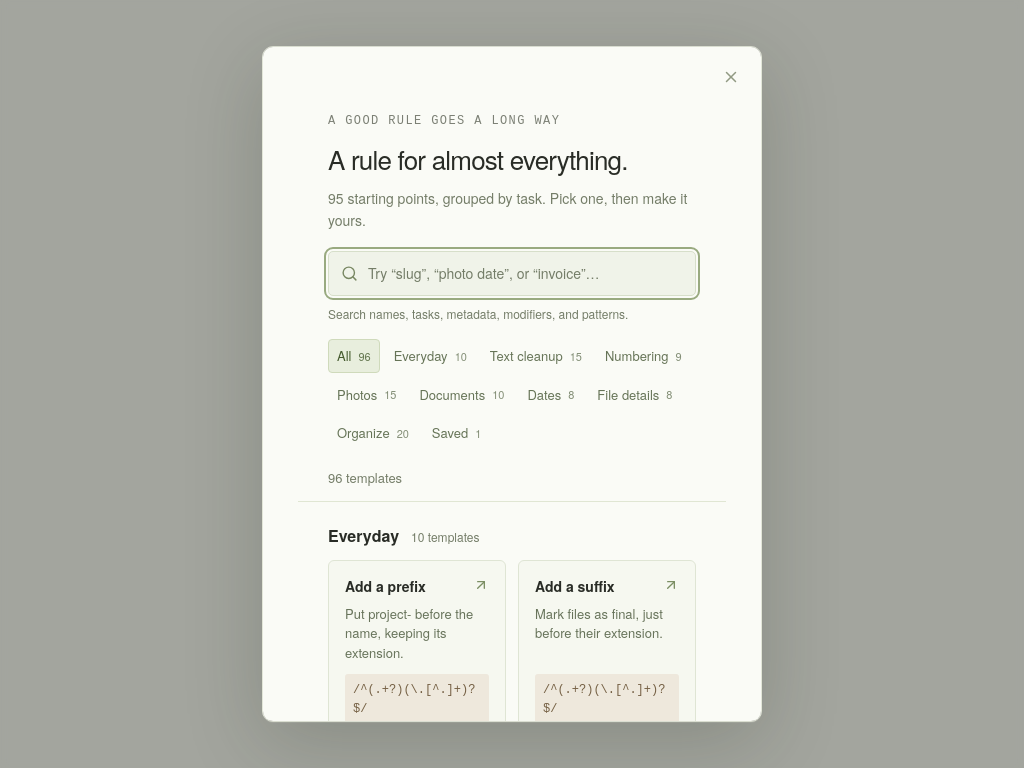
Test: template library › combines categories with modifier search and clears the search without changing the category
Click the button "Photos 15": (367, 395) 328,378 -> 406,412
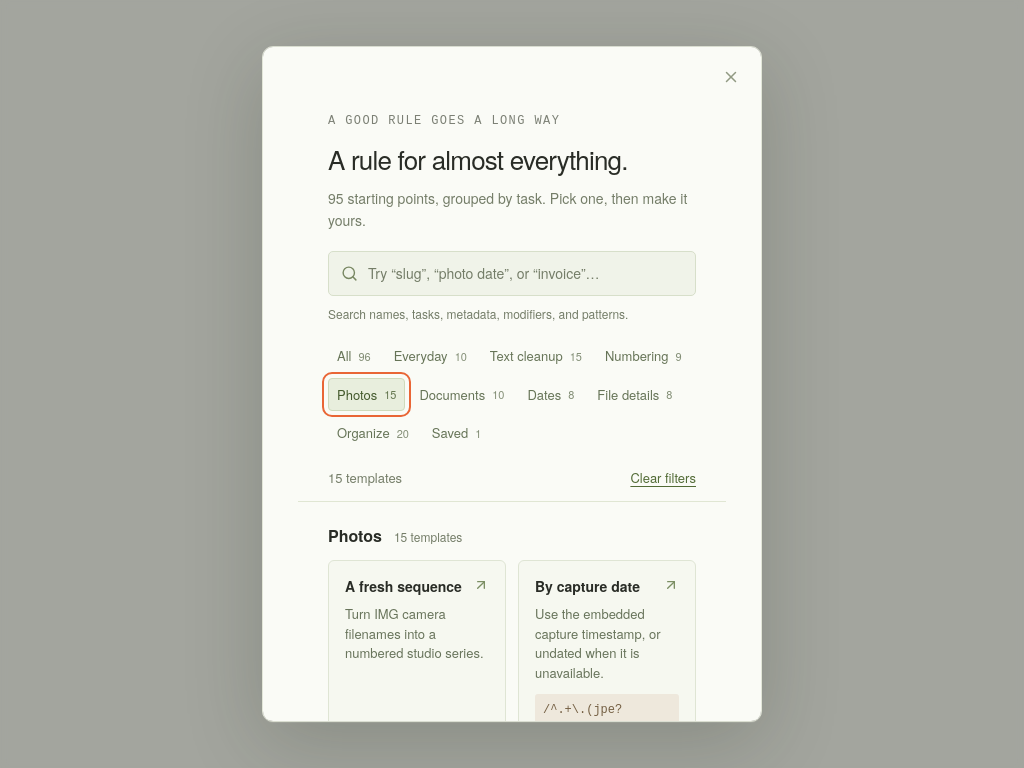
Click the field named "Search templates": (526, 274) 368,263 -> 683,284
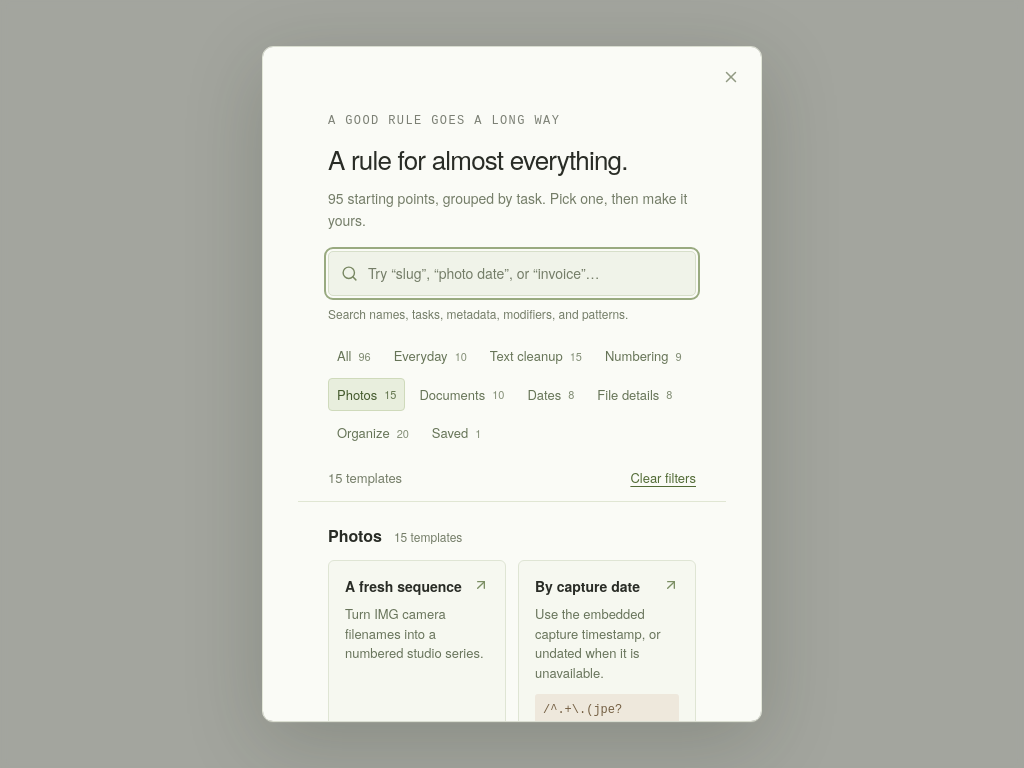
Type keys "pad with zeros"
(page scrolled)
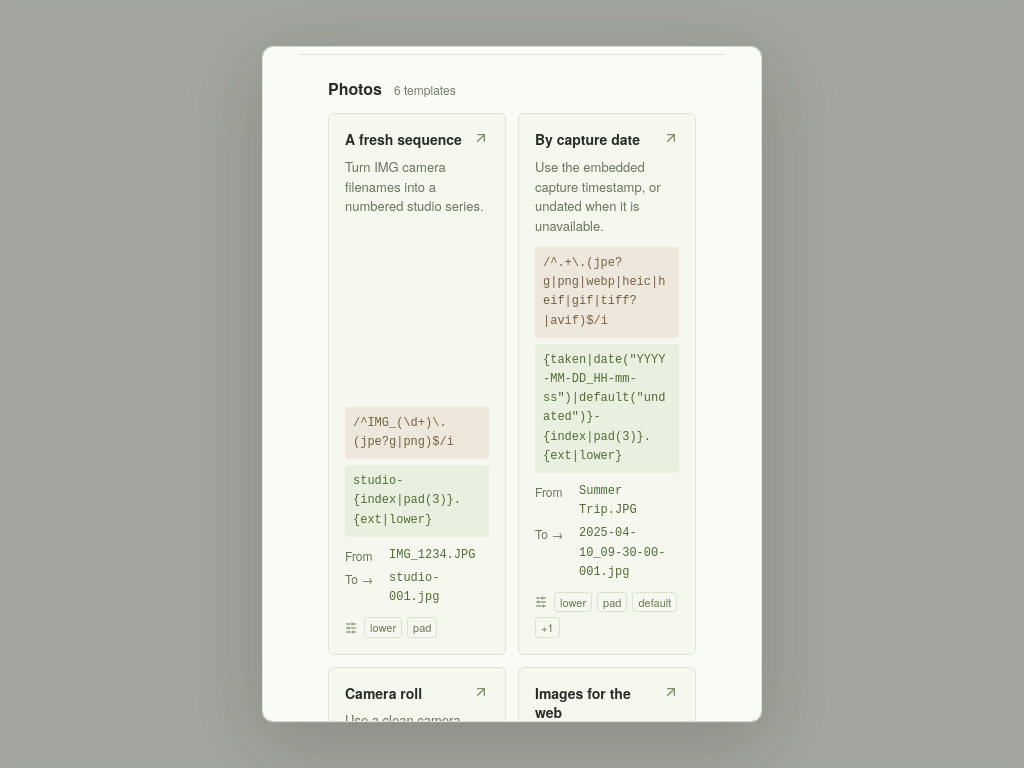
Now the button "Documents" is gone
Now the button "Saved" is gone
Click the button "A fresh sequence": (417, 384) 328,114 -> 506,655
(page scrolled)
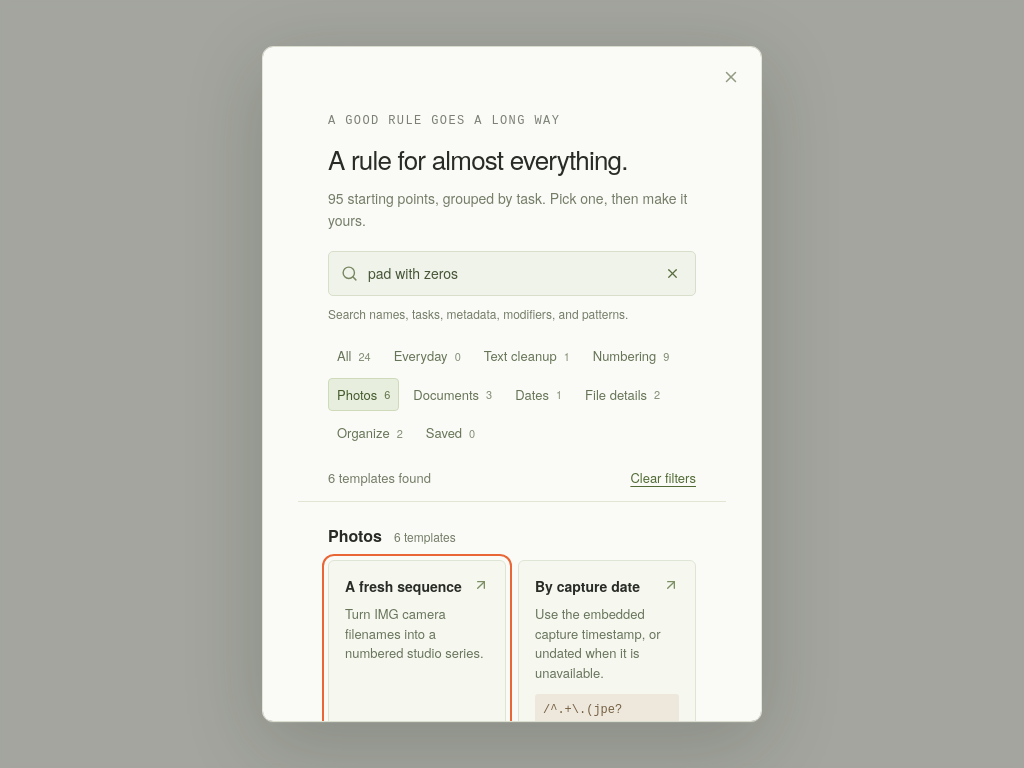
Click the button named "Clear template search": (672, 274) 662,263 -> 683,284
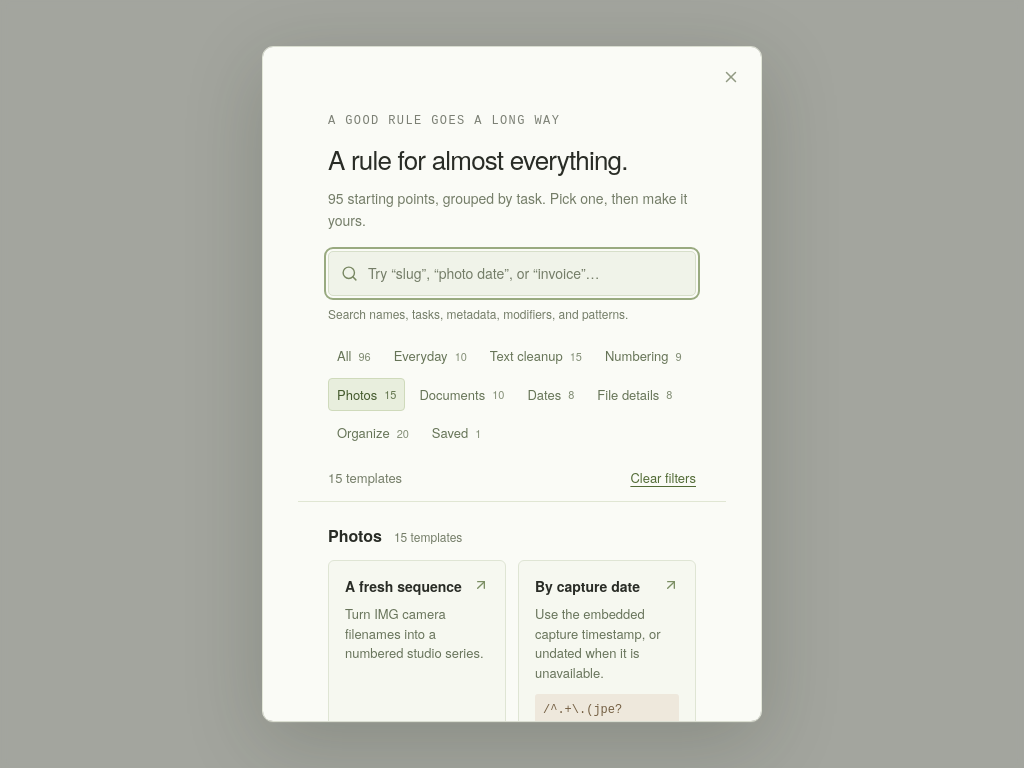
Now the button "Photos 15" is shown, box 328,378 -> 406,412
Now the field named "Search templates" is empty, box 368,263 -> 683,284
